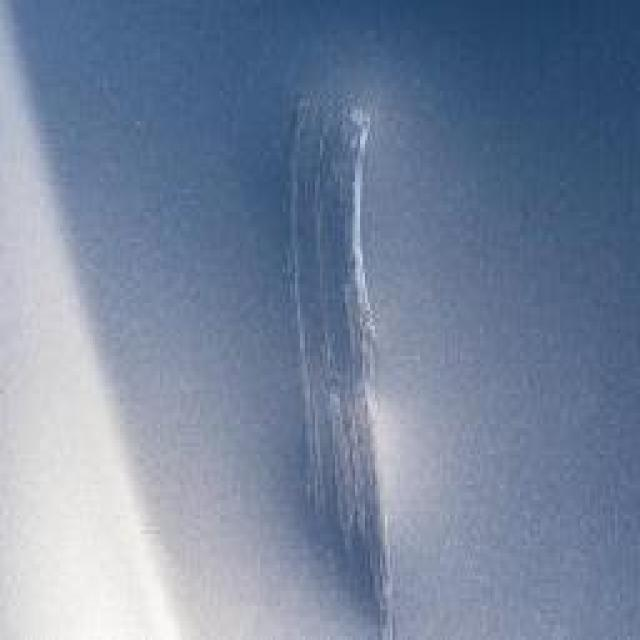Door: (110, 15, 638, 640)
